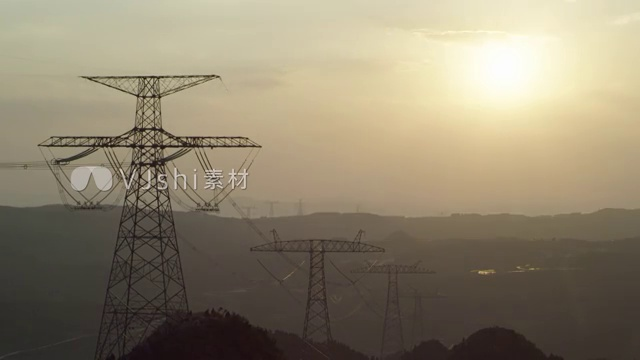tower_body: (239, 214, 401, 354)
tower_foot: (38, 56, 267, 360), (94, 294, 187, 354), (303, 325, 335, 358)
tower_head: (236, 221, 390, 259), (73, 64, 227, 99)
